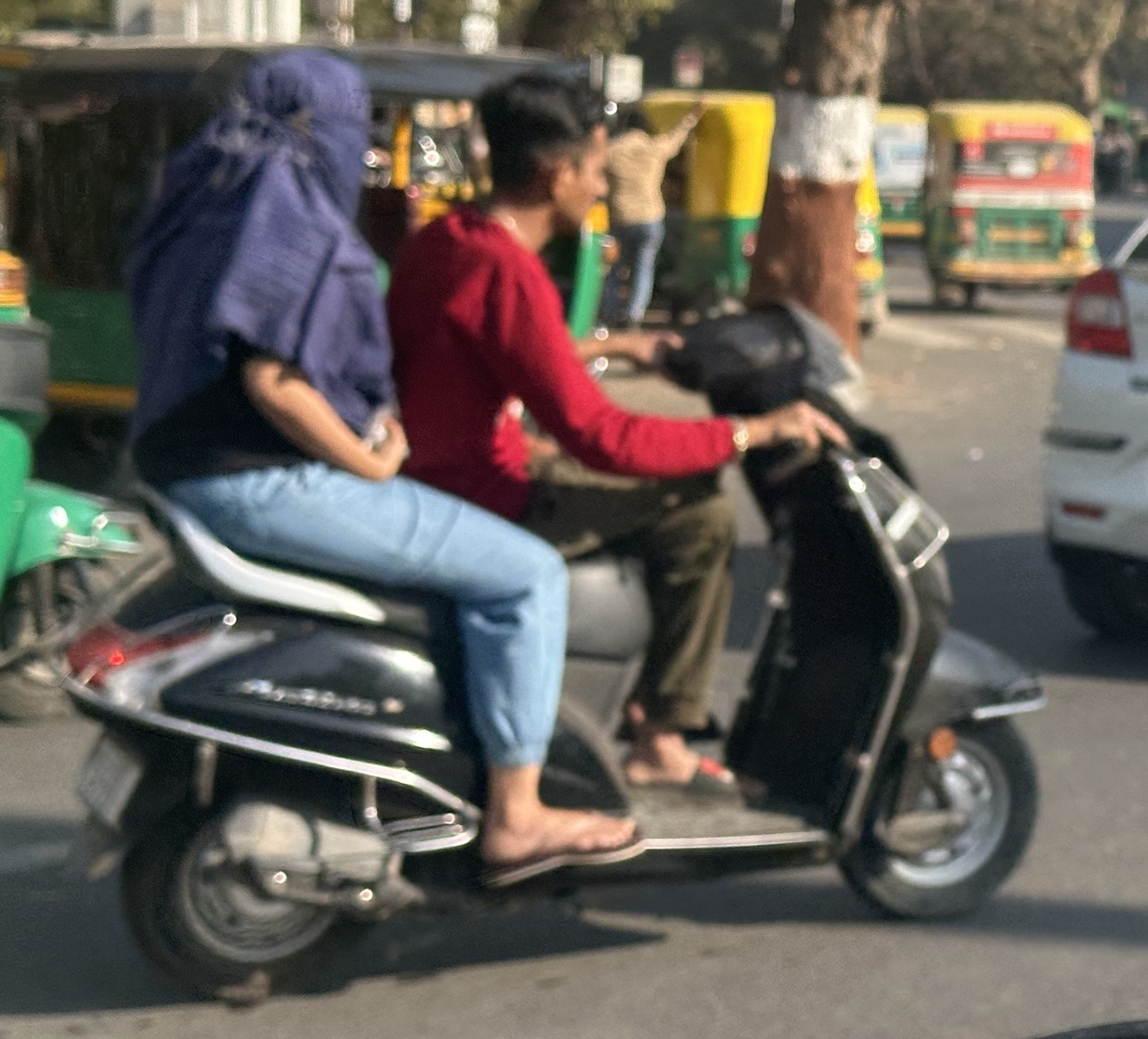BikeWithRider: (43, 42, 1053, 1013)
NoHelmet: (466, 59, 628, 239), (232, 46, 383, 214)
